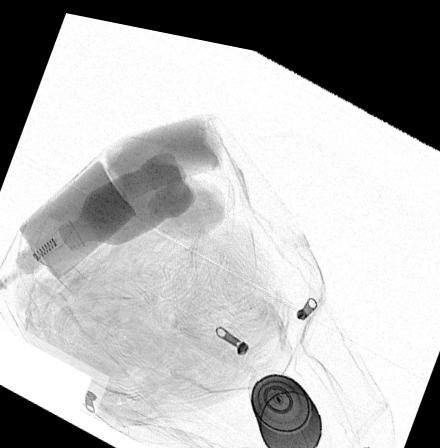Sprayer: (249, 361, 322, 446)
